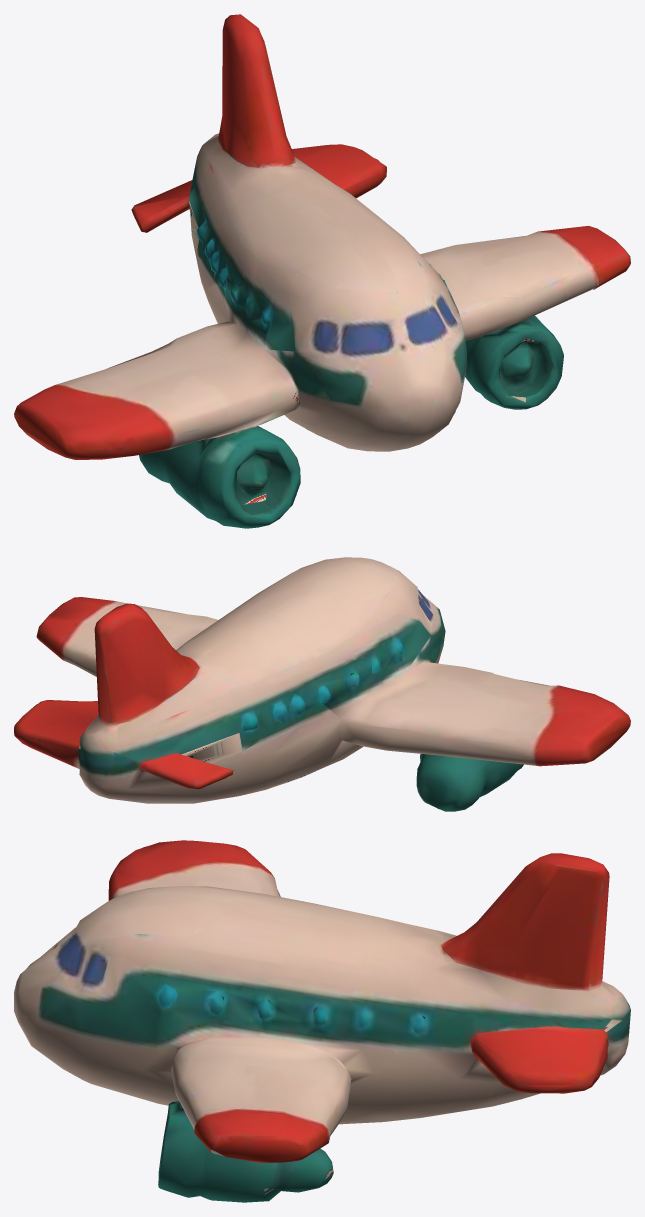
Rendered from plane-lite.glb.
3 views of the same model, one above another, from view 1: azimuth 30°, elevation 25°; view 2: azimuth 150°, elevation 25°; view 3: azimuth 270°, elevation 25° (orthographic). The views are drawn at different scales.
Visible parts, largest first — view 1: geometry_0; view 2: geometry_0; view 3: geometry_0.
Part boxes in pixels (left/top/right/bottom): geometry_0: left=14, top=14, right=630, bottom=528; geometry_0: left=14, top=557, right=630, bottom=811; geometry_0: left=14, top=840, right=630, bottom=1202.
Size of the model in its own units: 0.9489 by 0.4428 by 0.797.
1 material, 1 textured.
